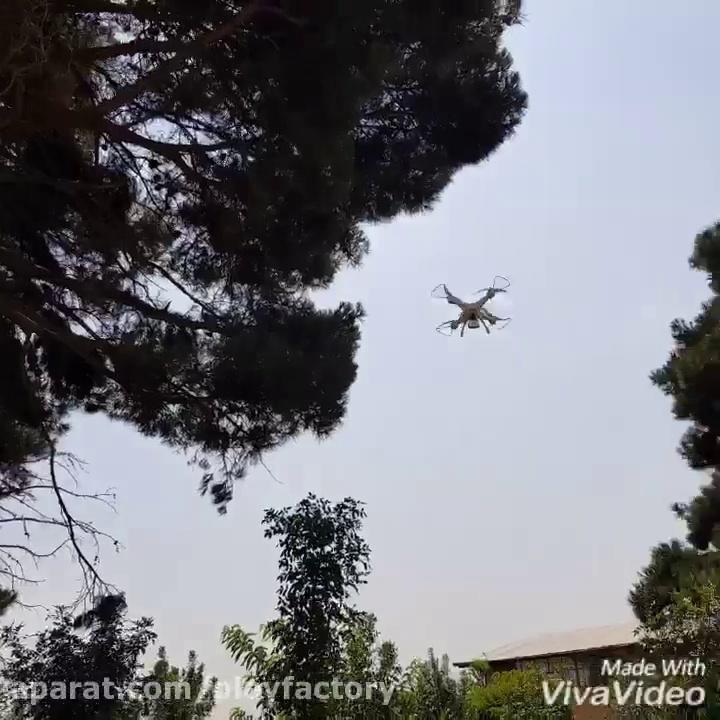drone: (429, 271, 514, 341)
